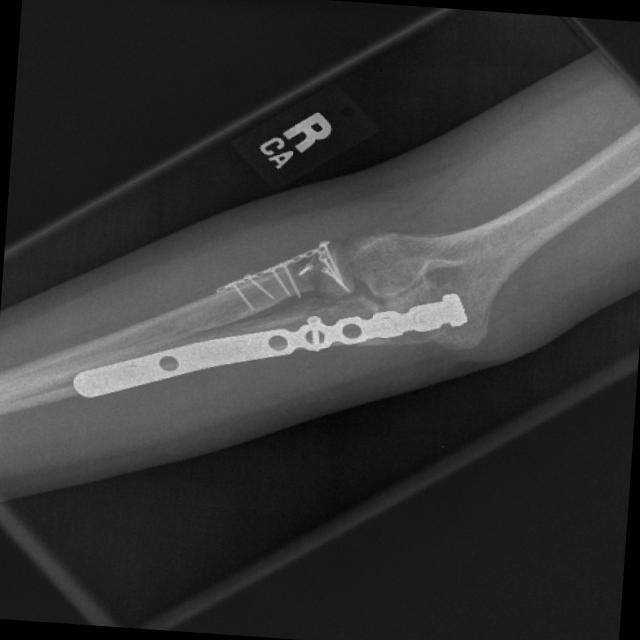elbow positive: (362, 240, 498, 320)
